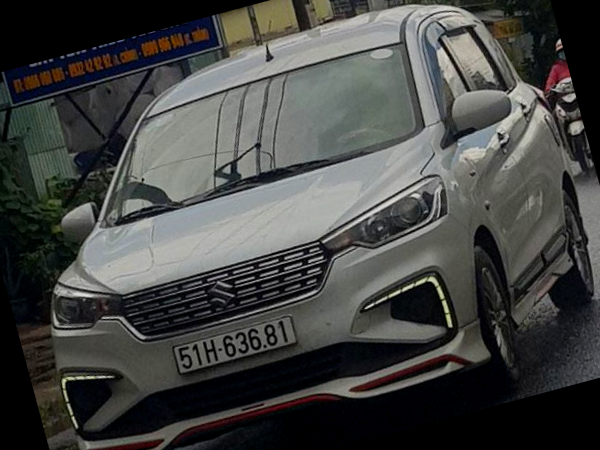lisence: (173, 315, 298, 376)
